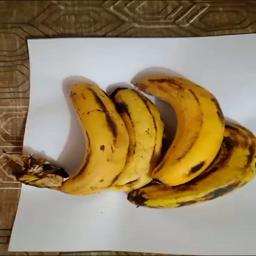Banana Semifresh: (140, 73, 226, 191), (57, 78, 128, 195), (108, 81, 168, 197), (118, 162, 256, 212)
